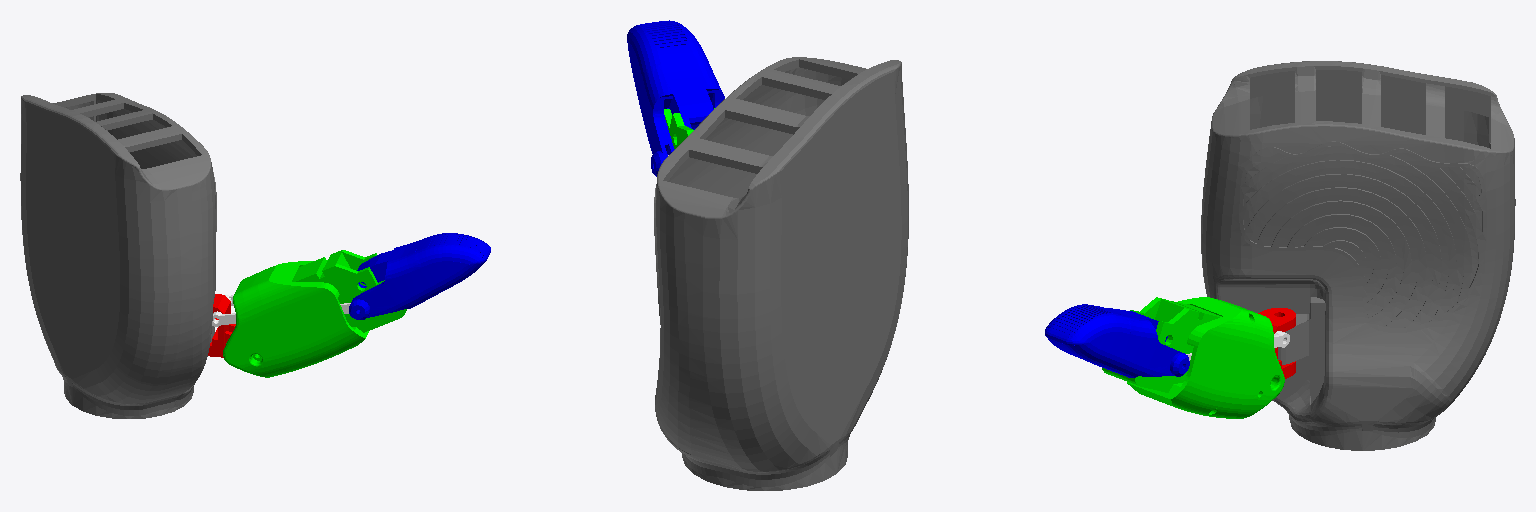
robot.urdf — Handone:
<?xml version="1.0" encoding="utf-8"?>
<!-- This URDF was automatically created by SolidWorks to URDF Exporter! Originally created by Stephen Brawner (brawner@gmail.com) 
     Commit Version: 1.6.0-4-g7f85cfe  Build Version: 1.6.7995.38578
     For more information, please see http://wiki.ros.org/sw_urdf_exporter -->
<robot
  name="Handone">
  <link
    name="base_link">
    <inertial>
      <origin
        xyz="-0.0029147 -0.0014709 0.045968"
        rpy="0 0 0" />
      <mass
        value="0.11298" />
      <inertia
        ixx="0.00013587"
        ixy="-1.2416E-06"
        ixz="4.8489E-06"
        iyy="9.3228E-05"
        iyz="3.314E-06"
        izz="7.8129E-05" />
    </inertial>
    <visual>
      <origin
        xyz="0 0 0"
        rpy="0 0 0" />
      <geometry>
        <mesh
          filename="../meshes/base_link.STL" />
      </geometry>
      <material
        name="">
        <color
          rgba="0.5 0.5 0.5 1" />
      </material>
    </visual>
    <collision>
      <origin
        xyz="0 0 0"
        rpy="0 0 0" />
      <geometry>
        <mesh
          filename="../meshes/base_link.STL" />
      </geometry>
    </collision>
  </link>
  <link
    name="bigfinger1_Link">
    <inertial>
      <origin
        xyz="0.0035614 -0.0032078 -0.009734"
        rpy="0 0 0" />
      <mass
        value="0.00099618" />
      <inertia
        ixx="4.347E-08"
        ixy="5.3049E-09"
        ixz="3.0937E-09"
        iyy="4.4581E-08"
        iyz="-2.7866E-09"
        izz="2.5708E-08" />
    </inertial>
    <visual>
      <origin
        xyz="0 0 0"
        rpy="0 0 0" />
      <geometry>
        <mesh
          filename="../meshes/bigfinger1_Link.STL" />
      </geometry>
      <material
        name="">
        <color
          rgba="1 0 0 1" />
      </material>
    </visual>
    <collision>
      <origin
        xyz="0 0 0"
        rpy="0 0 0" />
      <geometry>
        <mesh
          filename="../meshes/bigfinger1_Link.STL" />
      </geometry>
    </collision>
  </link>
  <joint
    name="bigfinger1_joint"
    type="revolute">
    <origin
      xyz="0.01245 -0.0221 0.03675"
      rpy="0 0 0" />
    <parent
      link="base_link" />
    <child
      link="bigfinger1_Link" />
    <axis
      xyz="0 0 1" />
    <limit
      lower="0"
      upper="0.78"
      effort="1"
      velocity="10" />
  </joint>
  <link
    name="bigfinger2_Link">
    <inertial>
      <origin
        xyz="0.020339 0.010906 0.0070501"
        rpy="0 0 0" />
      <mass
        value="0.047127" />
      <inertia
        ixx="3.5352E-06"
        ixy="-1.0305E-06"
        ixz="8.9132E-10"
        iyy="6.4464E-06"
        iyz="7.154E-10"
        izz="8.9757E-06" />
    </inertial>
    <visual>
      <origin
        xyz="0 0 0"
        rpy="0 0 0" />
      <geometry>
        <mesh
          filename="../meshes/bigfinger2_Link.STL" />
      </geometry>
      <material
        name="">
        <color
          rgba="0 1 0 1" />
      </material>
    </visual>
    <collision>
      <origin
        xyz="0 0 0"
        rpy="0 0 0" />
      <geometry>
        <mesh
          filename="../meshes/bigfinger2_Link.STL" />
      </geometry>
    </collision>
  </link>
  <joint
    name="bigfinger2_joint"
    type="revolute">
    <origin
      xyz="0.014192 -0.0032949 -0.012473"
      rpy="1.5708 0 -0.73321" />
    <parent
      link="bigfinger1_Link" />
    <child
      link="bigfinger2_Link" />
    <axis
      xyz="0 0 1" />
    <limit
      lower="0"
      upper="0.78"
      effort="0"
      velocity="20" />
  </joint>
  <link
    name="bigfinger3_Link">
    <inertial>
      <origin
        xyz="0.017822 0.0048877 0.0032999"
        rpy="0 0 0" />
      <mass
        value="0.014431" />
      <inertia
        ixx="8.9797E-07"
        ixy="-5.0645E-07"
        ixz="5.6223E-11"
        iyy="1.795E-06"
        iyz="5.8769E-11"
        izz="1.8591E-06" />
    </inertial>
    <visual>
      <origin
        xyz="0 0 0"
        rpy="0 0 0" />
      <geometry>
        <mesh
          filename="../meshes/bigfinger3_Link.STL" />
      </geometry>
      <material
        name="">
        <color
          rgba="0 0 1 1" />
      </material>
    </visual>
    <collision>
      <origin
        xyz="0 0 0"
        rpy="0 0 0" />
      <geometry>
        <mesh
          filename="../meshes/bigfinger3_Link.STL" />
      </geometry>
    </collision>
  </link>
  <joint
    name="bigfinger3_joint"
    type="revolute">
    <origin
      xyz="0.037851 0.024498 0.00375"
      rpy="0 0 0" />
    <parent
      link="bigfinger2_Link" />
    <child
      link="bigfinger3_Link" />
    <axis
      xyz="0 0 -1" />
    <limit
      lower="0"
      upper="0.78"
      effort="1"
      velocity="20" />
  </joint>
  <link
    name="bigfinger4_Link">
    <inertial>
      <origin
        xyz="-0.024432 -0.0050086 0.009865"
        rpy="0 0 0" />
      <mass
        value="0.00032554" />
      <inertia
        ixx="3.3258E-09"
        ixy="-1.411E-08"
        ixz="1.1891E-23"
        iyy="6.9262E-08"
        iyz="3.324E-24"
        izz="7.2295E-08" />
    </inertial>
    <visual>
      <origin
        xyz="0 0 0"
        rpy="0 0 0" />
      <geometry>
        <mesh
          filename="../meshes/bigfinger4_Link.STL" />
      </geometry>
      <material
        name="">
        <color
          rgba="1 1 1 1" />
      </material>
    </visual>
    <collision>
      <origin
        xyz="0 0 0"
        rpy="0 0 0" />
      <geometry>
        <mesh
          filename="../meshes/bigfinger4_Link.STL" />
      </geometry>
    </collision>
  </link>
  <joint
    name="bigfinger4_joint"
    type="revolute">
    <origin
      xyz="1.2802E-05 -0.0061 -0.006565"
      rpy="0 0 0" />
    <parent
      link="bigfinger3_Link" />
    <child
      link="bigfinger4_Link" />
    <axis
      xyz="0 0 -1" />
    <limit
      lower="-0.5"
      upper="0.5"
      effort="0"
      velocity="20" />
  </joint>
</robot>

--- Render facts (derived) ---
The picture shows the robot from 3 angles, left to right: view 1: azimuth 30°, elevation 25°; view 2: azimuth 150°, elevation 25°; view 3: azimuth 270°, elevation 25°; orthographic projection.
Robot: Handone — 5 links, 4 joints (4 revolute); root link base_link; default pose: all joints at 0.
Links seen in each view (by area): view 1: base_link, bigfinger2_Link, bigfinger3_Link, bigfinger1_Link; view 2: base_link, bigfinger3_Link, bigfinger2_Link; view 3: base_link, bigfinger2_Link, bigfinger3_Link, bigfinger1_Link.
Link boxes in pixels (x1,y1,x2,y2): base_link: (20,93,216,418); bigfinger2_Link: (223,250,406,377); bigfinger3_Link: (349,233,490,319); bigfinger1_Link: (208,294,235,357); base_link: (654,57,908,490); bigfinger3_Link: (627,20,724,176); bigfinger2_Link: (664,108,714,148); base_link: (1201,61,1515,450); bigfinger2_Link: (1102,297,1284,418); bigfinger3_Link: (1045,304,1189,377); bigfinger1_Link: (1258,308,1295,378).
Bounding box of the posed robot: 0.101 × 0.1252 × 0.0964 m (x, y, z).
Meshes: 5 distinct files referenced, 5 mesh visuals loaded (5 binary STL).
